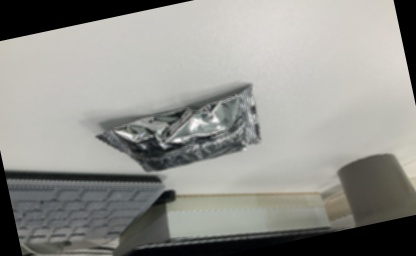br: (88, 78, 269, 186)
